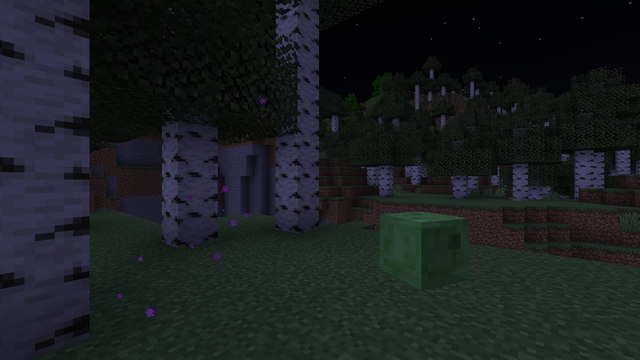slimes: (379, 208, 461, 292)
